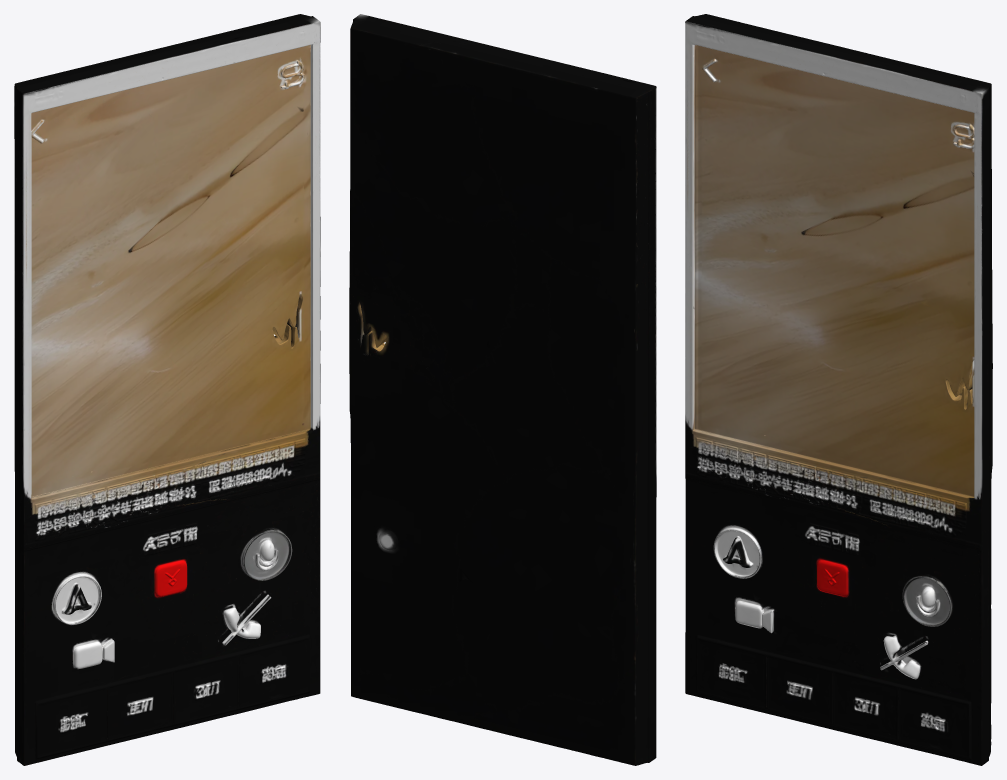
File: model-web.glb
3 views of the same model, side by side, from view 1: azimuth 30°, elevation 25°; view 2: azimuth 150°, elevation 25°; view 3: azimuth 330°, elevation 25° (orthographic).
Parts seen in each view (by area): view 1: node_0; view 2: node_0; view 3: node_0.
Part boxes in pixels (left/top/right/bottom): node_0: left=14, top=14, right=320, bottom=765; node_0: left=349, top=14, right=656, bottom=765; node_0: left=685, top=14, right=992, bottom=765.
Size of the model in its own units: 0.5036 by 1.09 by 0.0611.
1 material, 1 textured.
